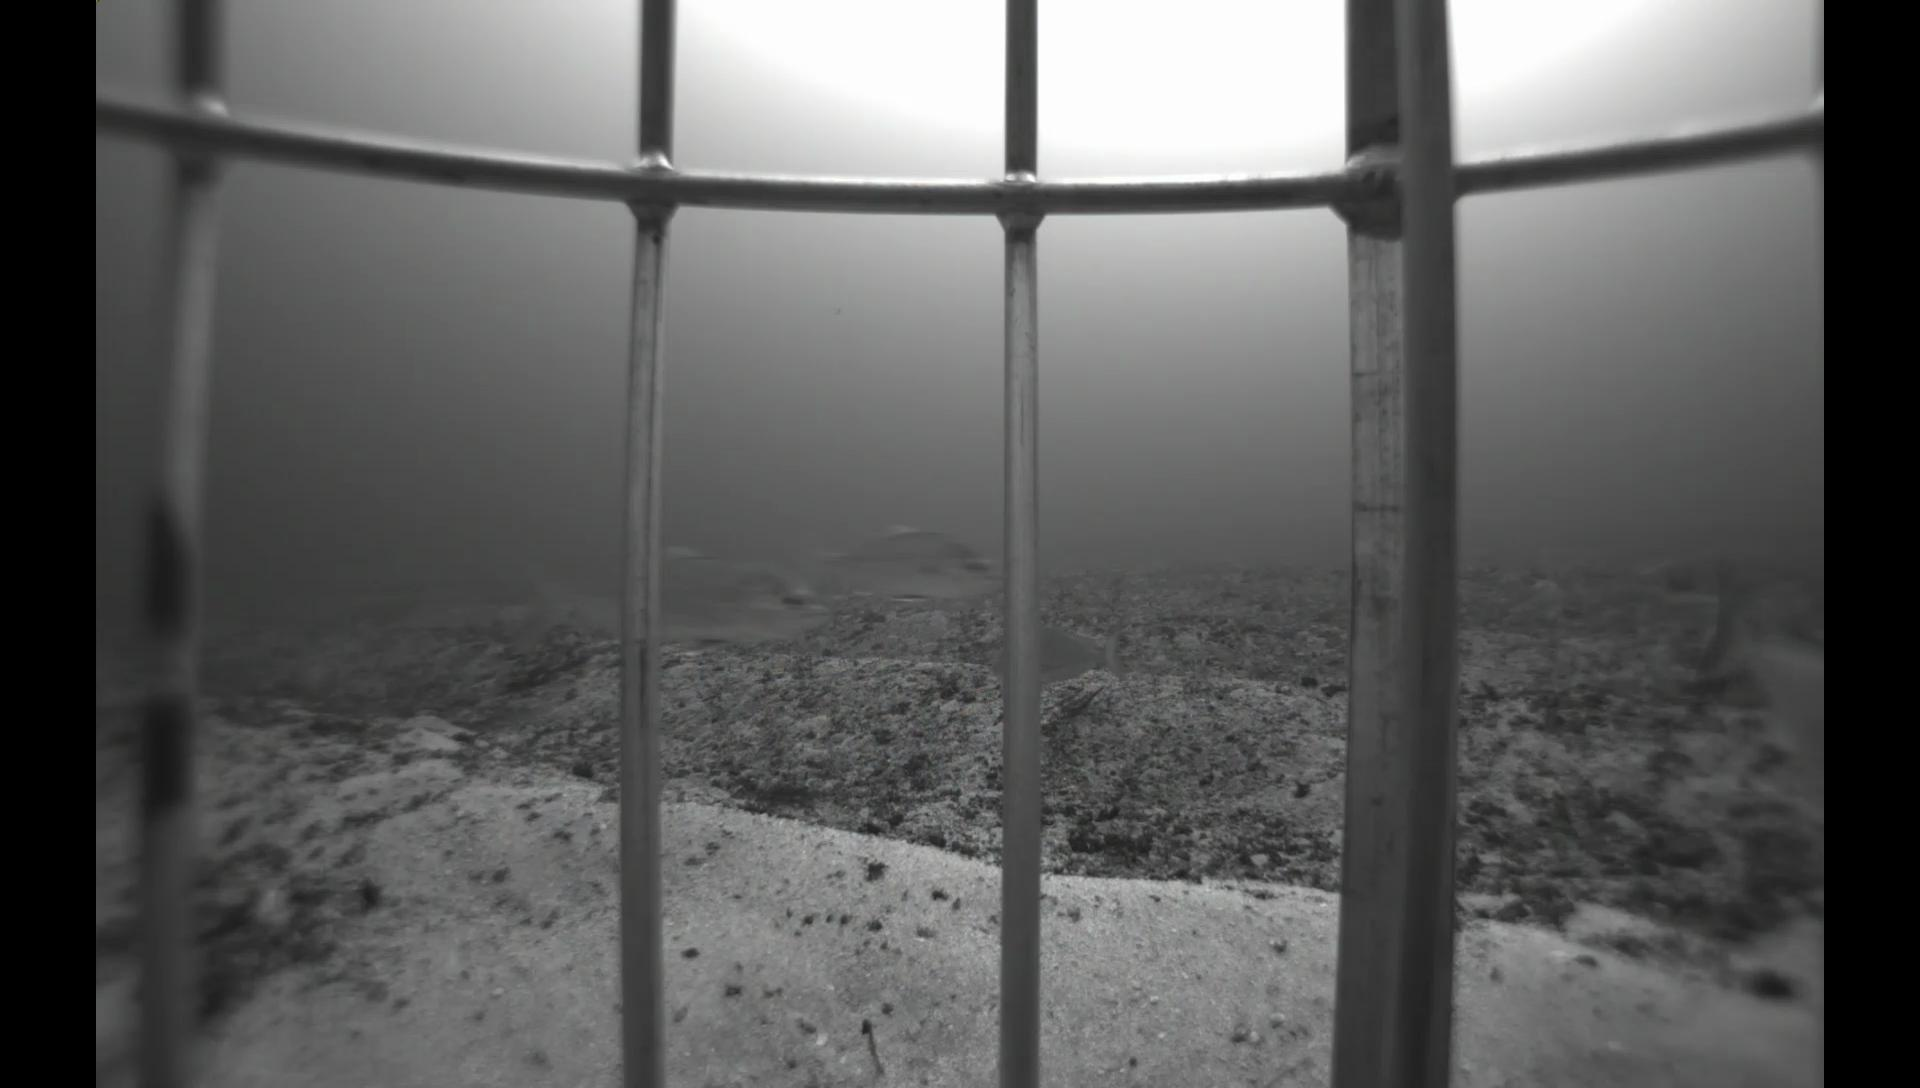CALAMUSPRORIDENS-170210605: (992, 619, 1129, 686)
RHOMBOPLITESAURORUBENS-170152001: (1660, 528, 1824, 799)
SERIOLAFASCIATA-170113103: (469, 528, 839, 669), (811, 517, 1006, 607)
